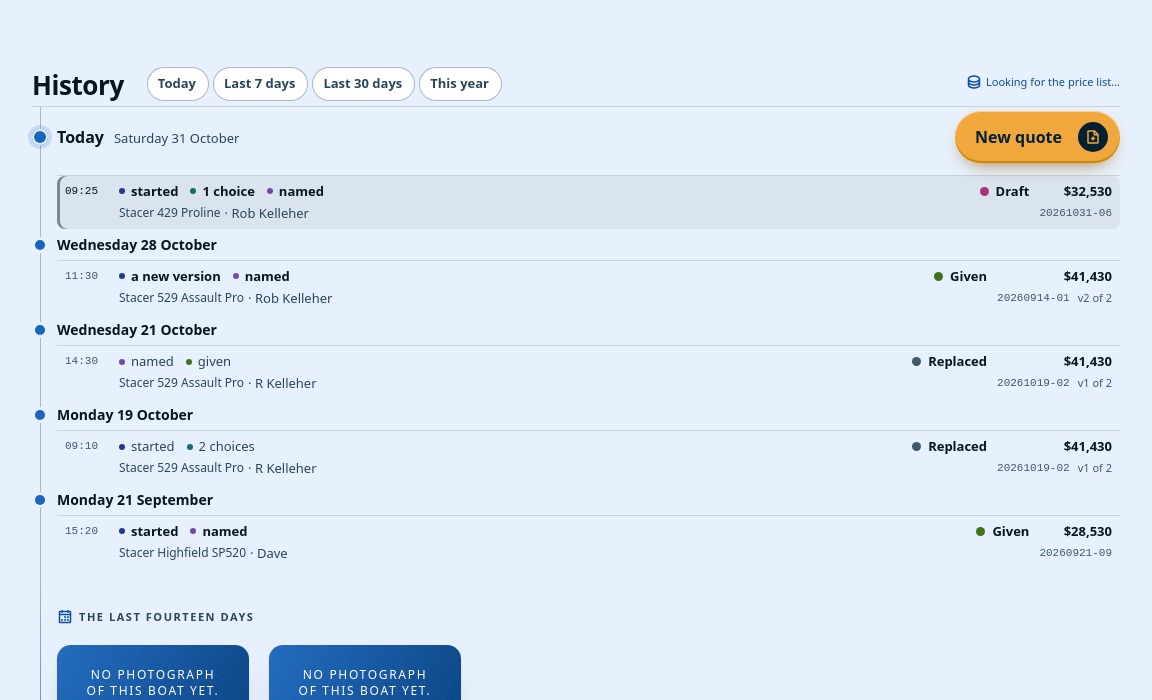
Test: the diary, with quotes in it › moves to another version’s line when its entry is pressed, and writes it into the address
Click the row that starts with "a new version".
click(82, 276)  # box x1=57 y1=261 x2=1120 y2=314
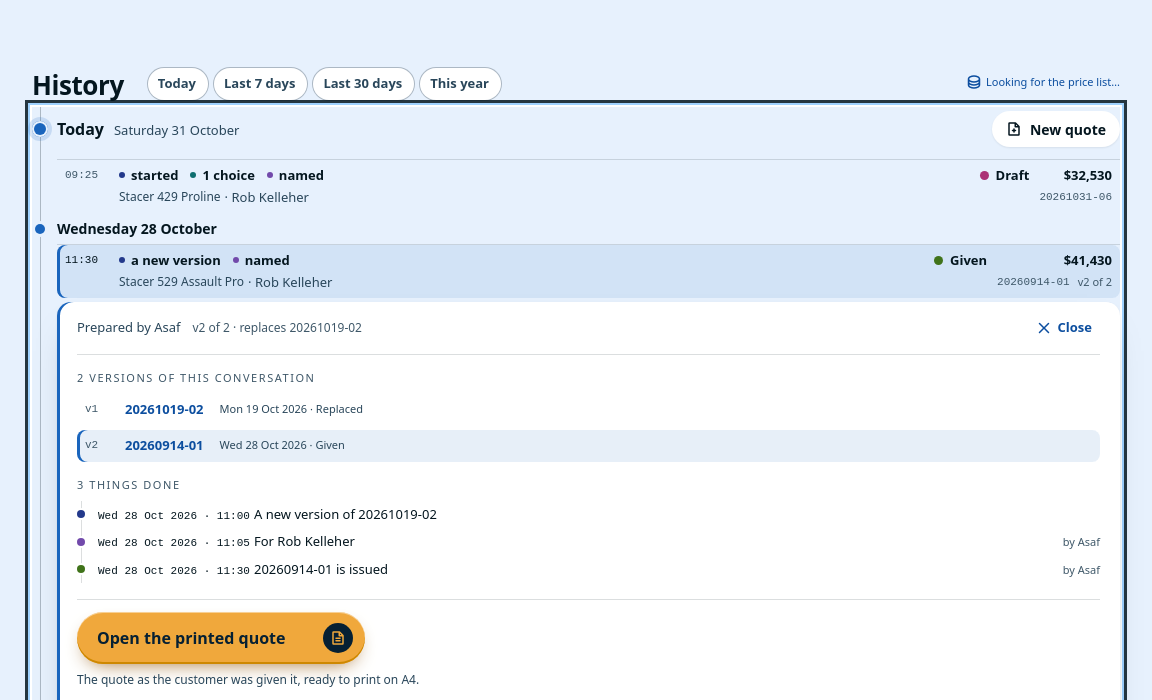
Click the button "20261019-02".
click(164, 410)  # box x1=117 y1=396 x2=212 y2=424
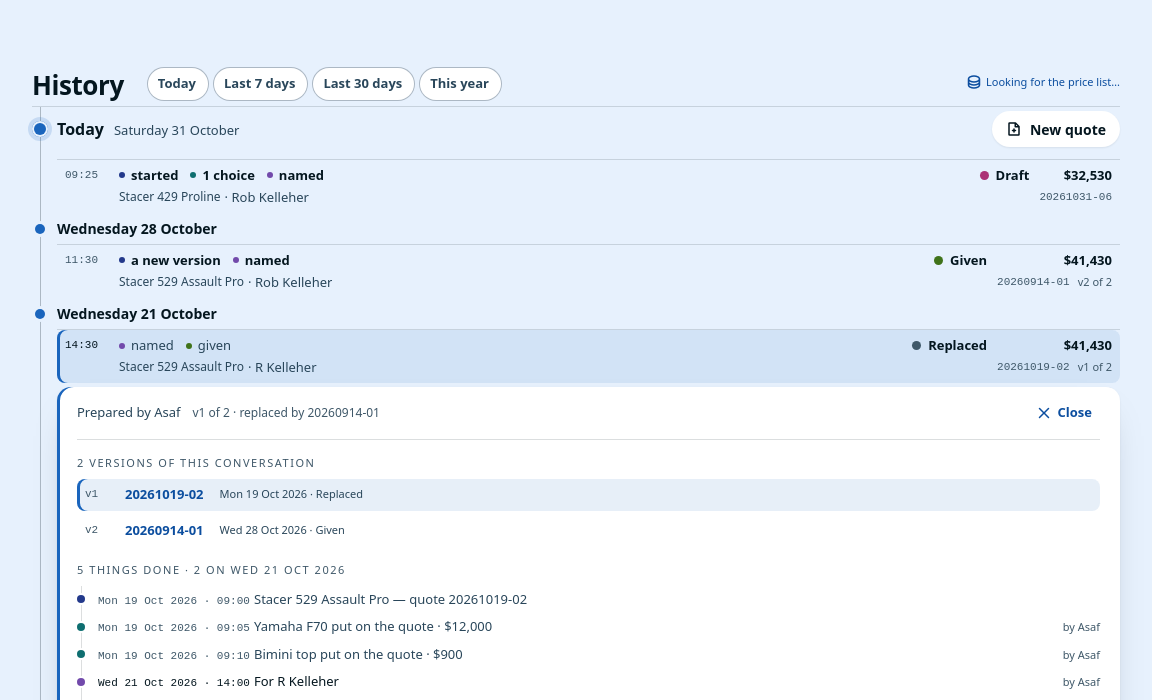
Now the text "v1 of 2 · replaced by 20260914-01" is shown, box x1=192 y1=405 x2=380 y2=421
